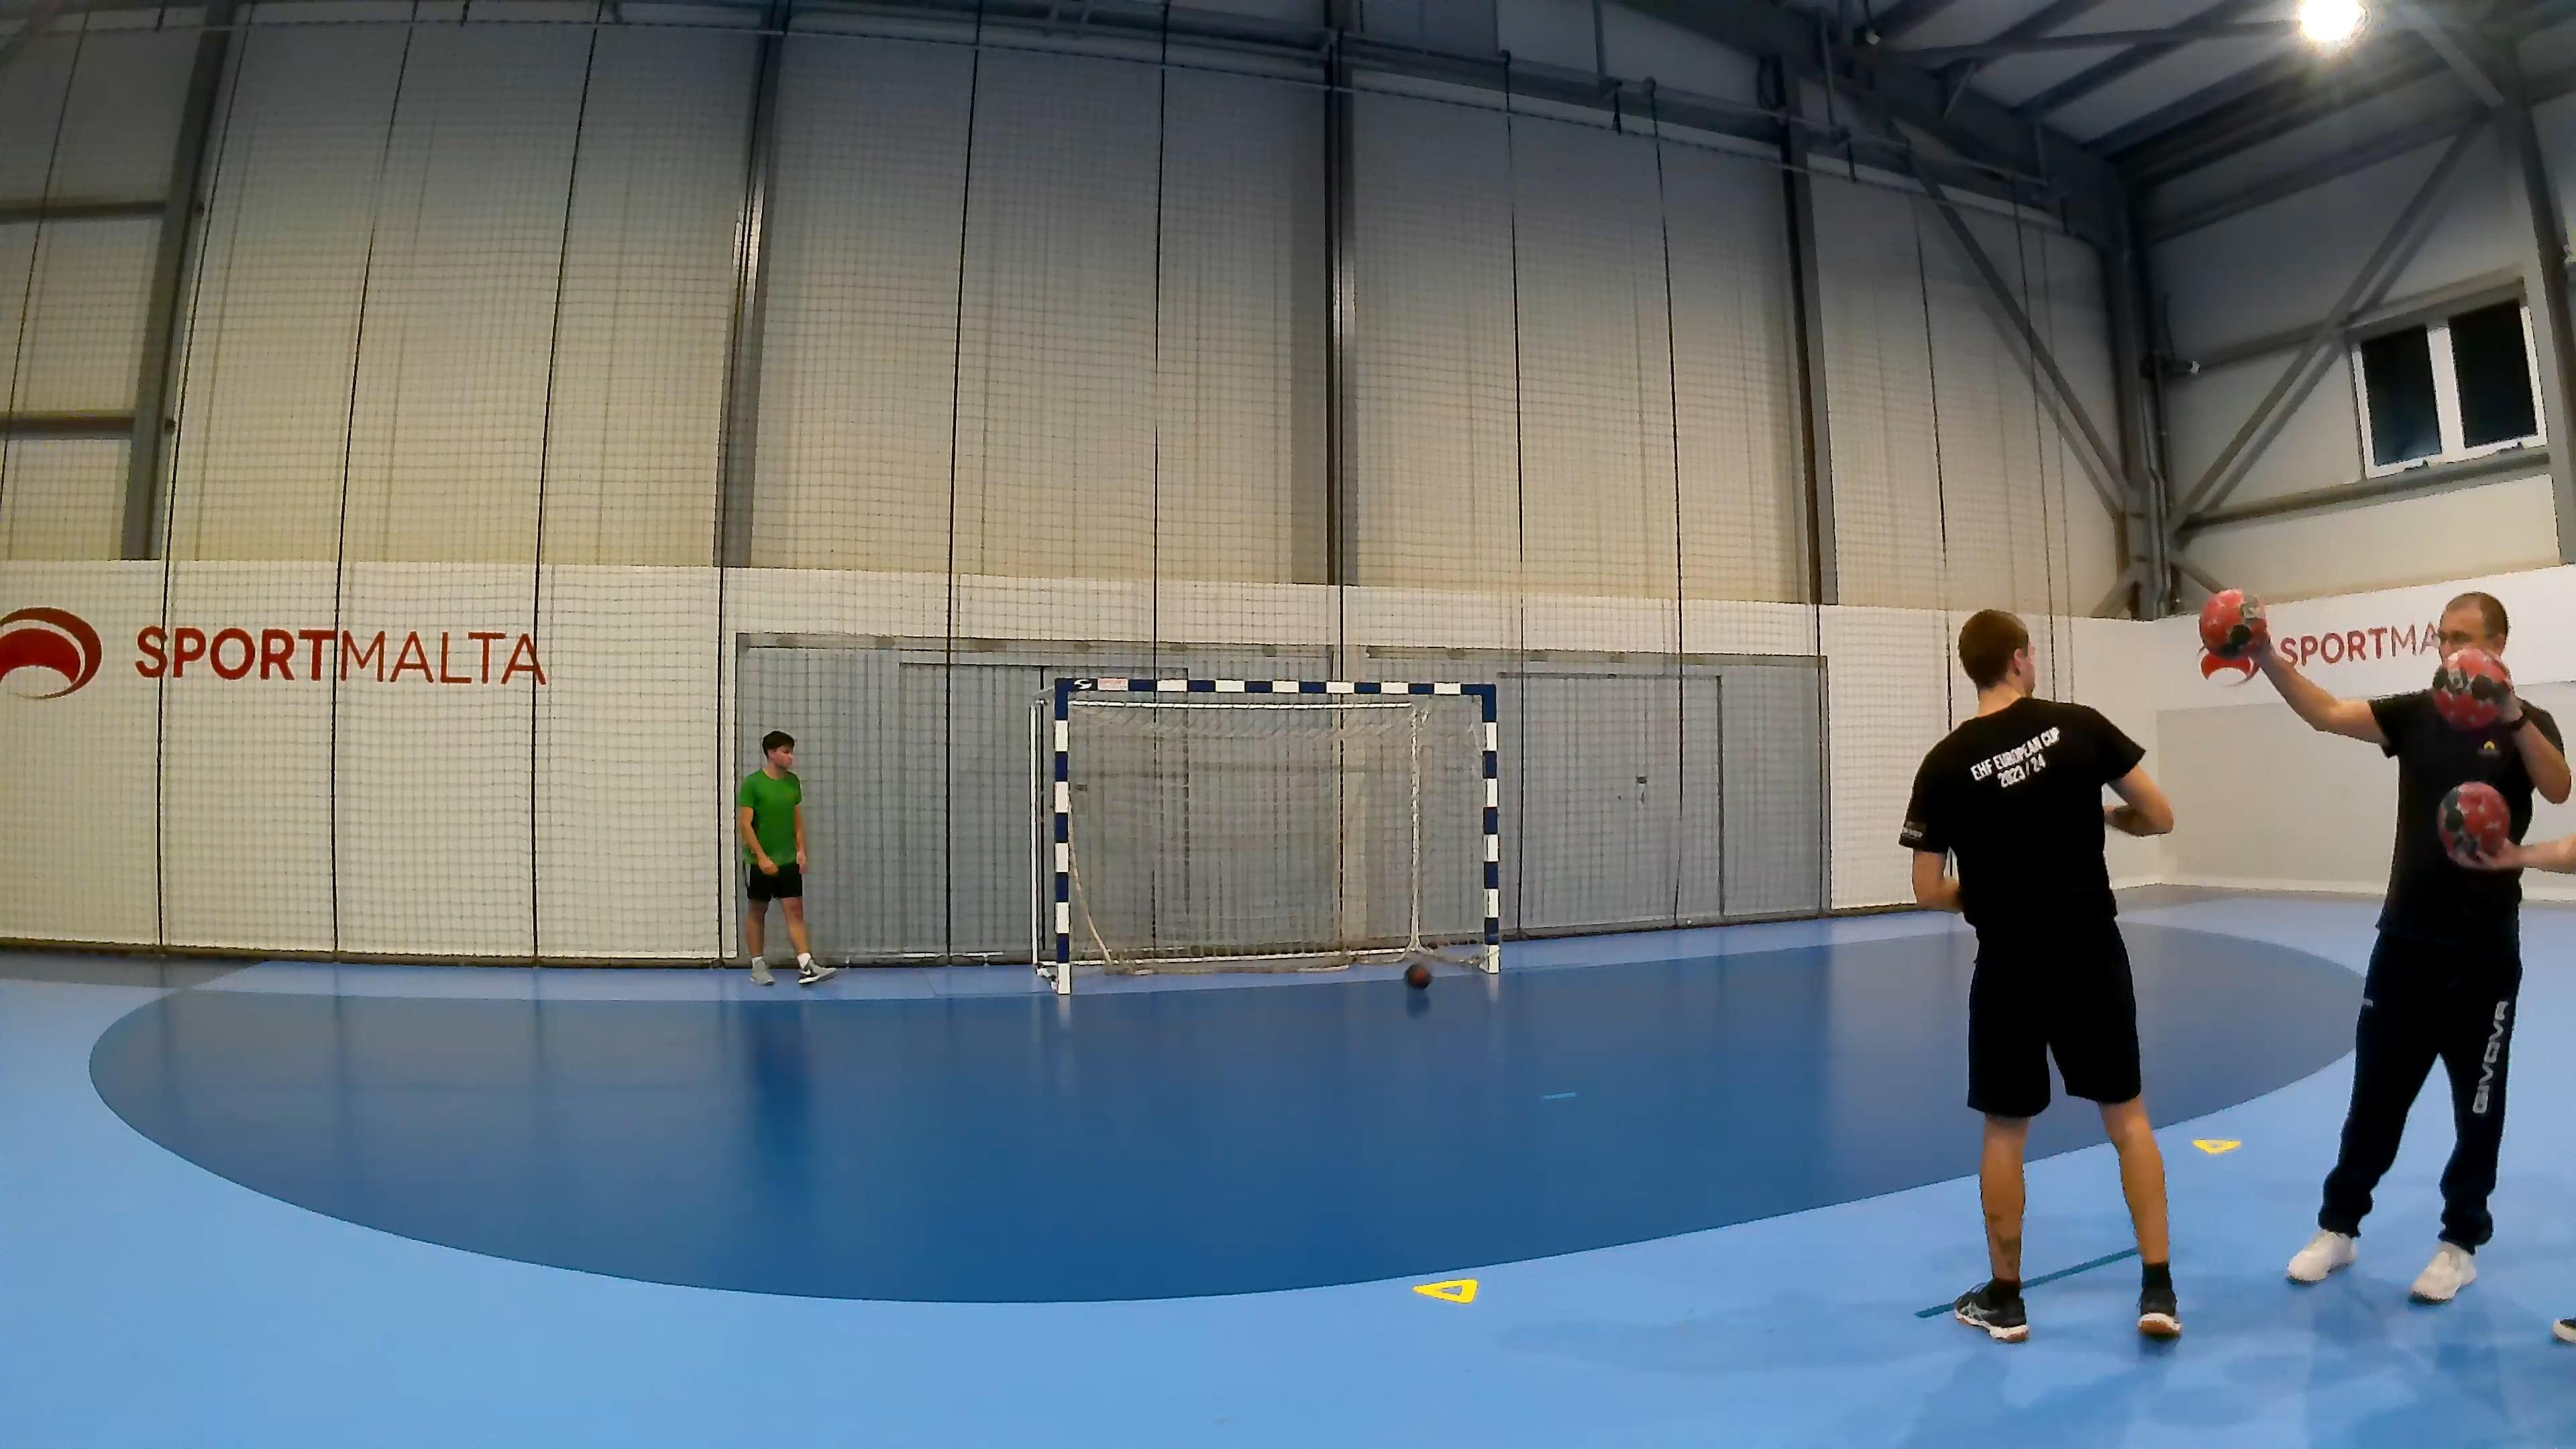handball: (2431, 648, 2511, 731), (2436, 780, 2509, 867), (2199, 586, 2259, 655), (1399, 959, 1438, 998)
